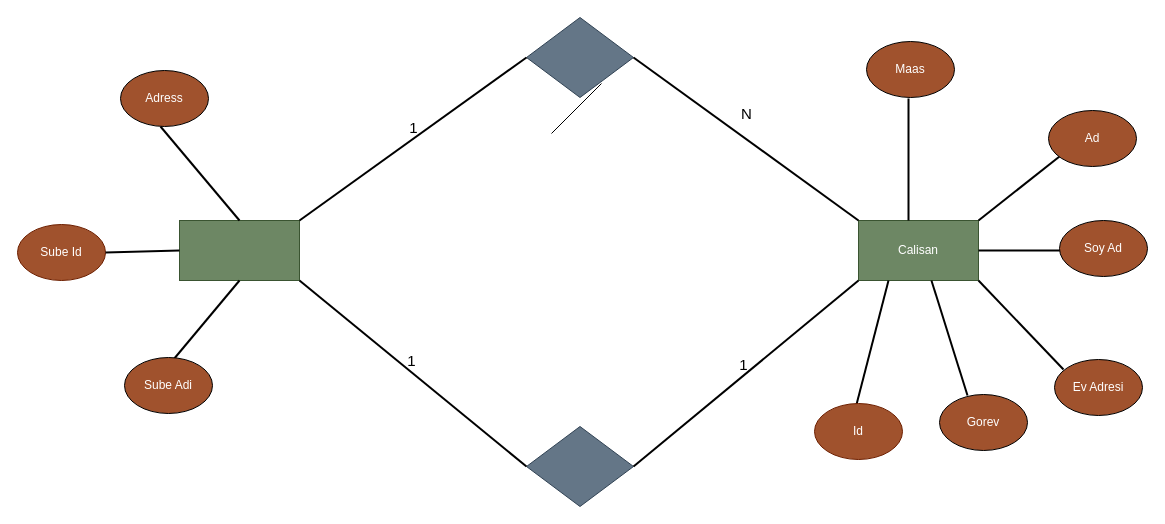
Image size: 1165x524. Some labels were removed from this diagram. Each missing label, with the centre of its shape:
Calisir: [580,57]
Sube: [239,250]
Yonetme: [580,466]
